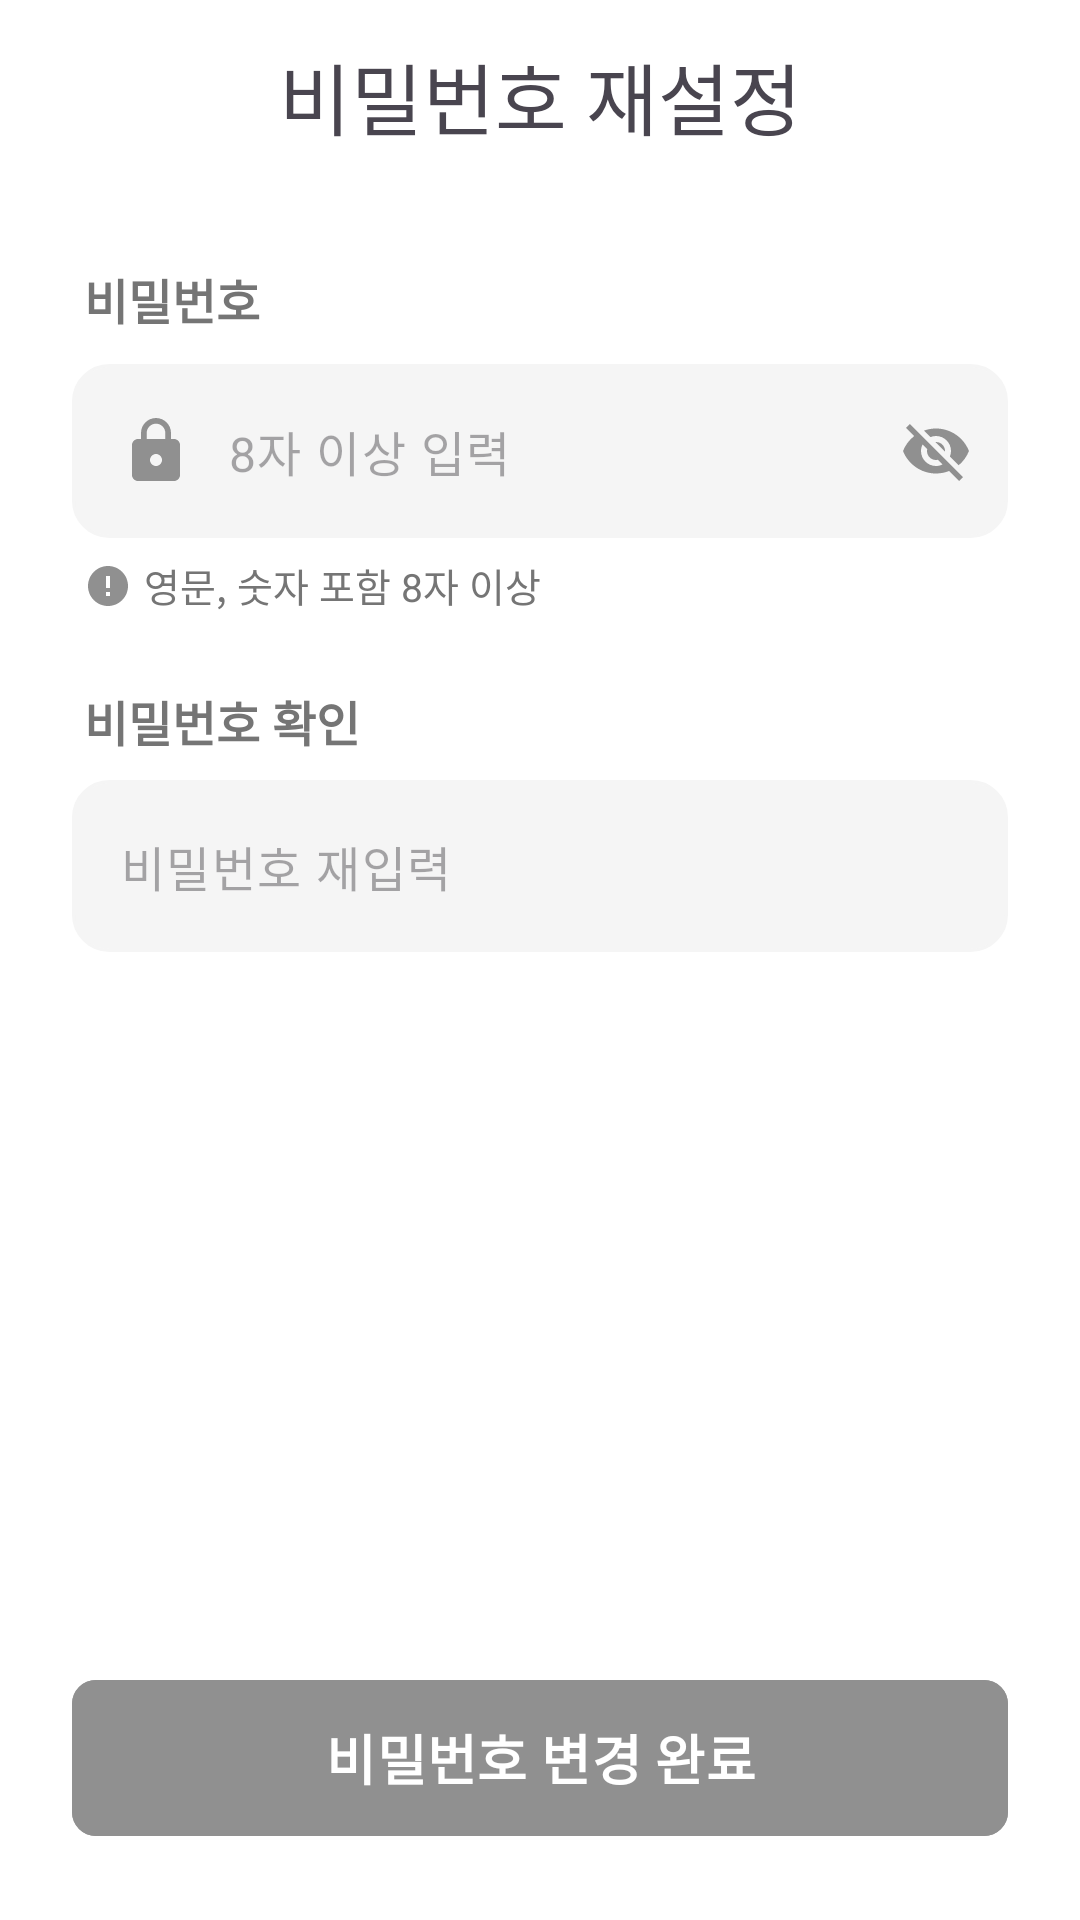

Named icons in this screenshot (1080px x 1920px) and their centers, point (x, y):
error: point (108, 586)
